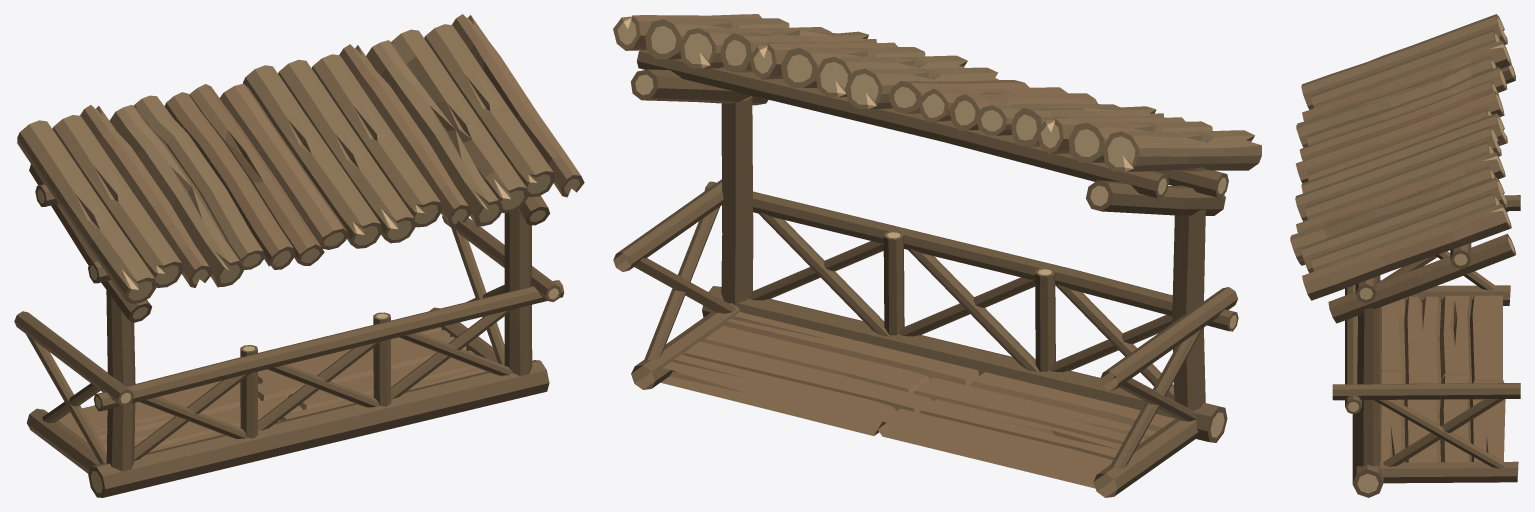
The model's file is rpgpp_st_balcony_01_6m_roof_a.fbx.
The picture shows the model from 3 angles, left to right: view 1: azimuth 30°, elevation 25°; view 2: azimuth 150°, elevation 25°; view 3: azimuth 270°, elevation 25°; orthographic projection. The views are drawn at different scales.
Parts seen in each view (by area): view 1: rpgpp_st_balcony_01_6m_roof_a; view 2: rpgpp_st_balcony_01_6m_roof_a; view 3: rpgpp_st_balcony_01_6m_roof_a.
Part boxes in pixels (box(x1,y1,x2,y2)): rpgpp_st_balcony_01_6m_roof_a: box(14, 14, 584, 497); rpgpp_st_balcony_01_6m_roof_a: box(613, 14, 1261, 497); rpgpp_st_balcony_01_6m_roof_a: box(1290, 14, 1520, 497).
Bounding box in the file's own units: 6.13 × 4.13 × 2.95.
